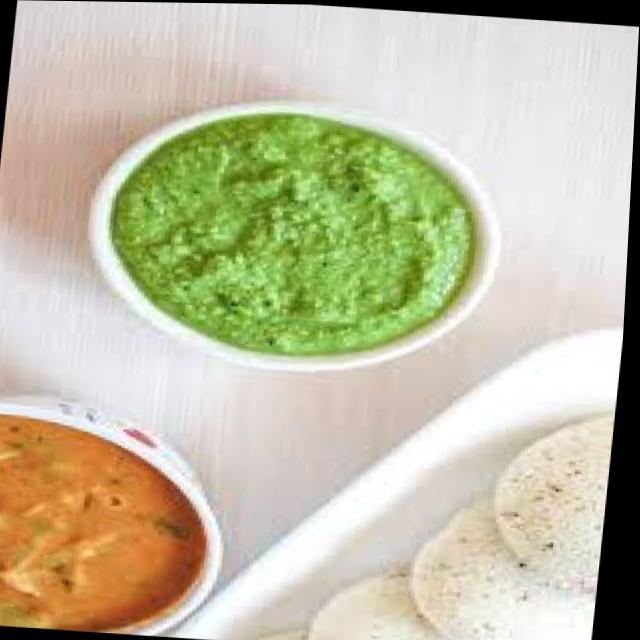GREEN CHUTNEY: (140, 125, 464, 351)
IDLI: (288, 379, 615, 640)
SAMBAR: (0, 417, 201, 630)
